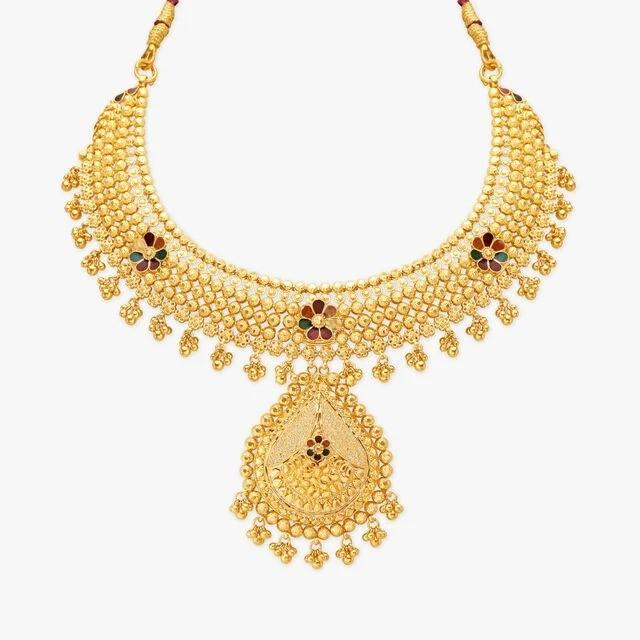missing gem: (133, 239, 147, 251), (325, 319, 340, 330)
